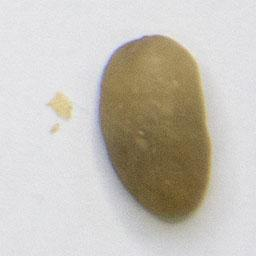premium: (96, 31, 215, 222)
